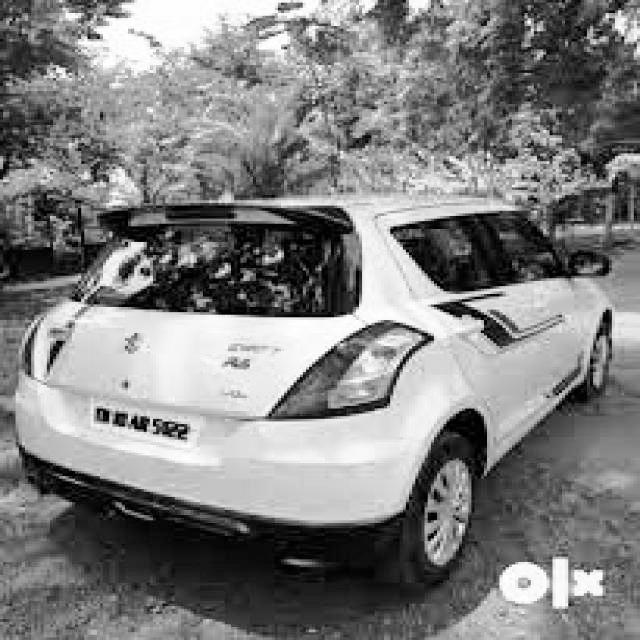Car: (16, 196, 623, 544)
